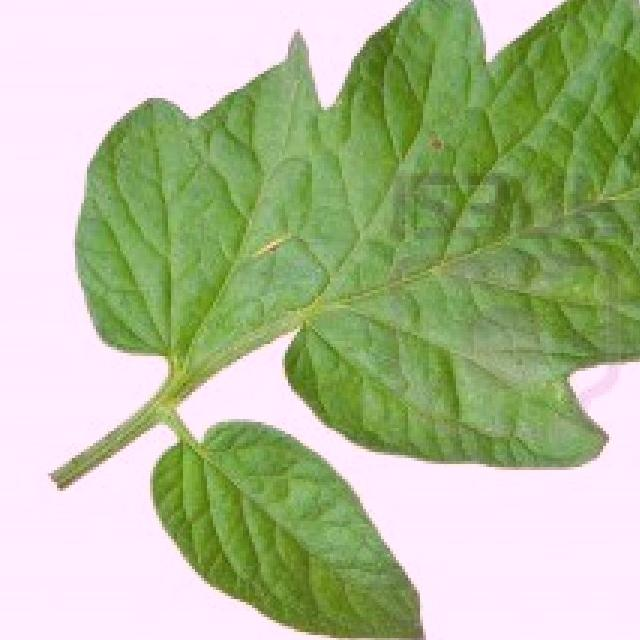Tomato leaf: (21, 0, 640, 474), (148, 420, 467, 640)
